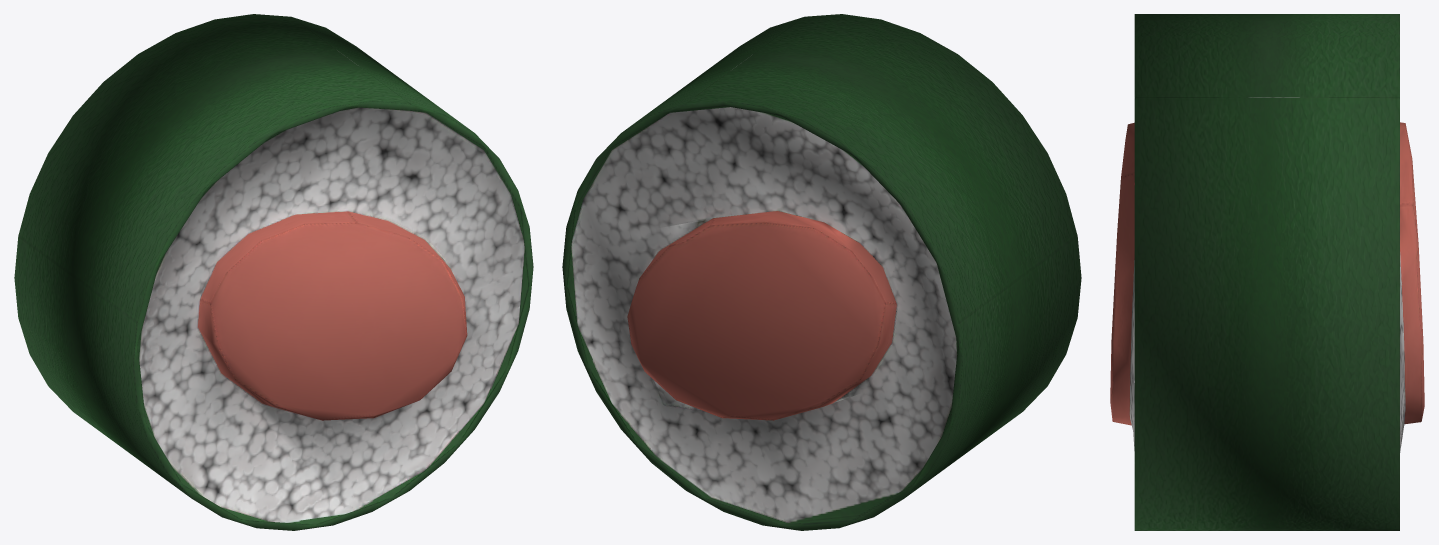
File: sushi_peixe.glb
3 views of the same model, side by side, from view 1: azimuth 30°, elevation 25°; view 2: azimuth 150°, elevation 25°; view 3: azimuth 270°, elevation 25° (orthographic). The views are drawn at different scales.
Parts seen in each view (by area): view 1: Cylinder; view 2: Cylinder; view 3: Cylinder.
Part boxes in pixels (bbox=[...]): Cylinder: bbox=[14, 14, 533, 530]; Cylinder: bbox=[562, 14, 1081, 530]; Cylinder: bbox=[1110, 14, 1424, 530].
Bounding box in the file's own units: 1.95 × 1.95 × 1.18.
1 material, 1 textured.
